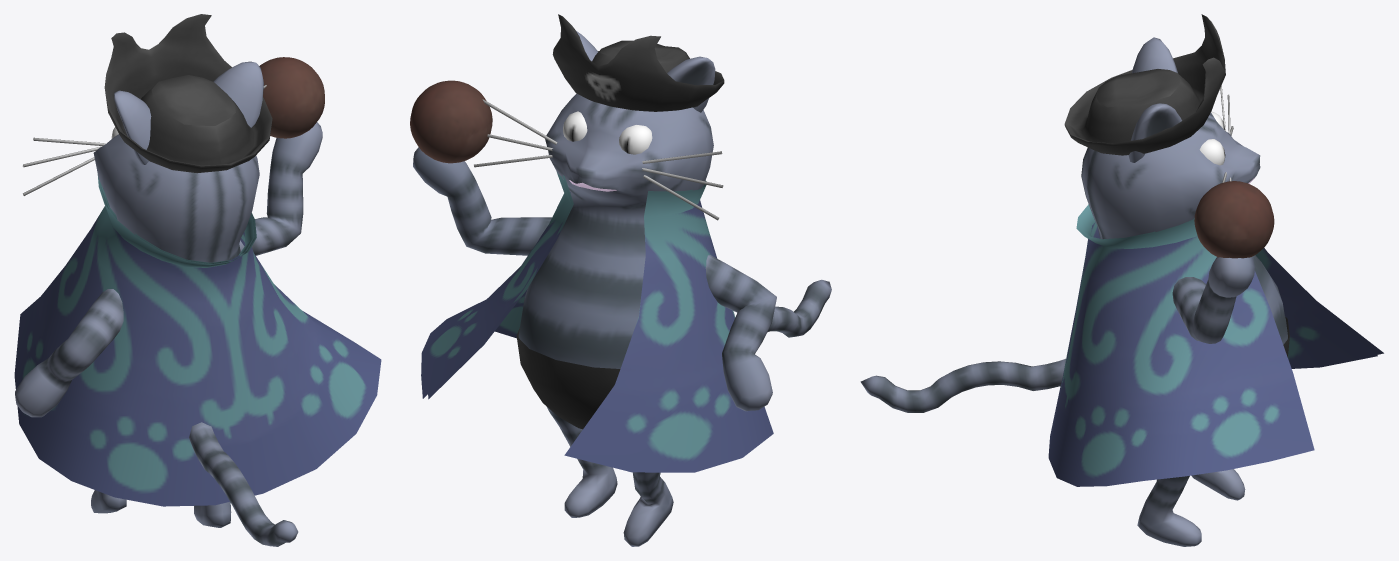
The model's file is neko_walk_b_08.fbx.
The picture shows the model from 3 angles, left to right: view 1: azimuth 30°, elevation 25°; view 2: azimuth 150°, elevation 25°; view 3: azimuth 270°, elevation 25°; orthographic projection. The views are drawn at different scales.
Visible parts, largest first — view 1: W_b_08; view 2: W_b_08; view 3: W_b_08.
Part boxes in pixels (<box>): W_b_08: <box>14,14,381,546</box>; W_b_08: <box>410,14,831,546</box>; W_b_08: <box>860,14,1383,546</box>.
Bounding box in the file's own units: 1.43 × 1.99 × 1.94.
1 material, 1 textured.
